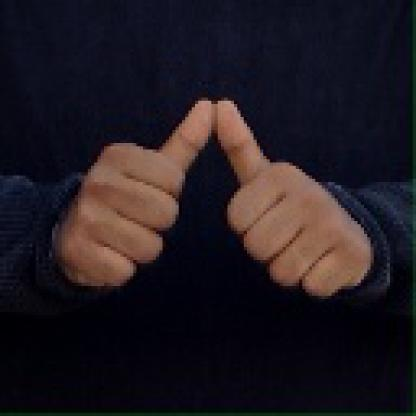A: (64, 95, 364, 302)
